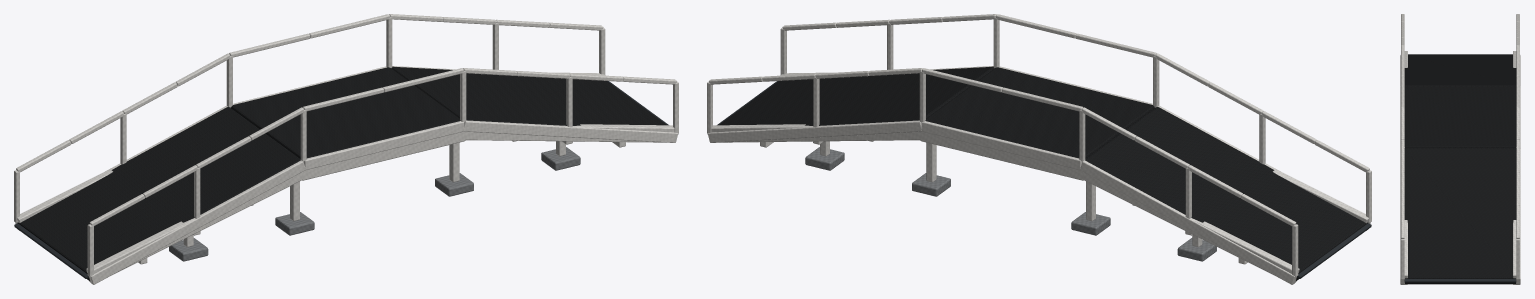
Rendered from Overpass_model.glb.
3 renders of one model, left to right at view 1: azimuth 30°, elevation 25°; view 2: azimuth 150°, elevation 25°; view 3: azimuth 270°, elevation 25°, orthographic. The views are drawn at different scales.
Parts seen in each view (by area): view 1: Deck_LeftRamp, Deck_Platform, Deck_RightRamp, Curb_Left_-1.2, Curb_Right_-1.2, Curb_Center_-1.2, Stringer_Center_-1.16, Stringer_Left_-1.16, Stringer_Right_-1.16, Stringer_Left_+1.16, Footing_5_-0.92, Footing_2_-0.92 (+8 smaller); view 2: Deck_LeftRamp, Deck_Platform, Deck_RightRamp, Curb_Left_+1.2, Curb_Right_+1.2, Curb_Center_+1.2, Stringer_Center_+1.16, Stringer_Left_+1.16, Stringer_Right_+1.16, Stringer_Left_-1.16, Footing_5_+0.92, Footing_2_+0.92 (+8 smaller); view 3: Deck_RightRamp, Deck_Platform, Deck_LeftRamp, Grip_RightEnd, Stringer_Right_+1.16, Stringer_Right_-1.16, RailPost_L_10, RailPost_R_10, Curb_Right_+1.2, Curb_Right_-1.2, Rail_Top_L_9, Rail_Top_R_9 (+10 smaller).
Part boxes in pixels (bbox=[...]): Deck_LeftRamp: bbox=[17, 107, 300, 280]; Deck_Platform: bbox=[231, 67, 460, 158]; Deck_RightRamp: bbox=[391, 66, 666, 125]; Curb_Left_-1.2: bbox=[89, 160, 305, 284]; Curb_Right_-1.2: bbox=[464, 120, 678, 142]; Curb_Center_-1.2: bbox=[303, 121, 464, 169]; Stringer_Center_-1.16: bbox=[302, 131, 465, 180]; Stringer_Left_-1.16: bbox=[86, 172, 303, 282]; Stringer_Right_-1.16: bbox=[463, 124, 674, 142]; Stringer_Left_+1.16: bbox=[17, 164, 121, 223]; Footing_5_-0.92: bbox=[541, 147, 580, 170]; Footing_2_-0.92: bbox=[275, 212, 314, 235]; Deck_LeftRamp: bbox=[1085, 107, 1368, 280]; Deck_Platform: bbox=[925, 67, 1155, 158]; Deck_RightRamp: bbox=[719, 66, 994, 125]; Curb_Left_+1.2: bbox=[1080, 160, 1296, 284]; Curb_Right_+1.2: bbox=[707, 120, 921, 142]; Curb_Center_+1.2: bbox=[921, 121, 1082, 169]; Stringer_Center_+1.16: bbox=[920, 131, 1083, 180]; Stringer_Left_+1.16: bbox=[1082, 172, 1299, 282]; Stringer_Right_+1.16: bbox=[711, 124, 922, 142]; Stringer_Left_-1.16: bbox=[1264, 164, 1368, 223]; Footing_5_+0.92: bbox=[805, 147, 844, 170]; Footing_2_+0.92: bbox=[1071, 212, 1110, 235]; Deck_RightRamp: bbox=[1404, 148, 1516, 284]; Deck_Platform: bbox=[1404, 86, 1516, 147]; Deck_LeftRamp: bbox=[1404, 54, 1516, 86]; Grip_RightEnd: bbox=[1404, 279, 1516, 282]; Stringer_Right_+1.16: bbox=[1513, 220, 1516, 284]; Stringer_Right_-1.16: bbox=[1404, 220, 1407, 284]; RailPost_L_10: bbox=[1401, 239, 1404, 279]; RailPost_R_10: bbox=[1516, 239, 1519, 279]; Curb_Right_+1.2: bbox=[1516, 148, 1520, 284]; Curb_Right_-1.2: bbox=[1400, 148, 1404, 284]; Rail_Top_L_9: bbox=[1401, 205, 1404, 238]; Rail_Top_R_9: bbox=[1516, 205, 1519, 238].
Size of the model in its own units: 11.16 by 2.28 by 2.5.
4 materials, 3 textured.
